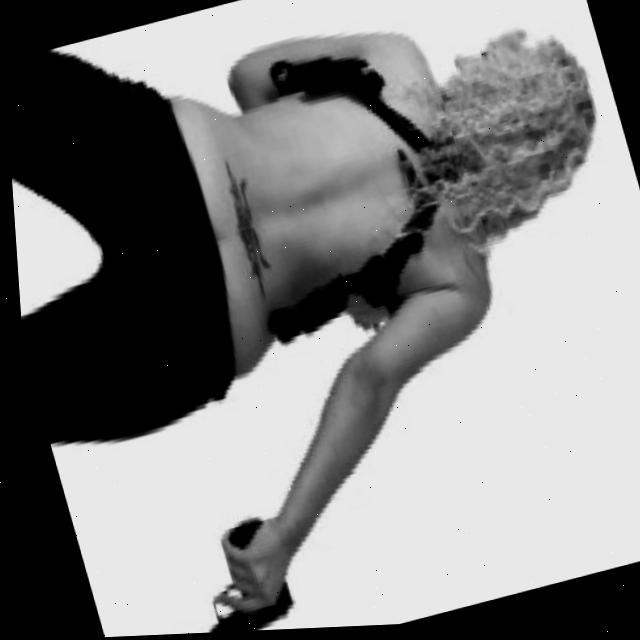gun: (156, 508, 294, 636)
